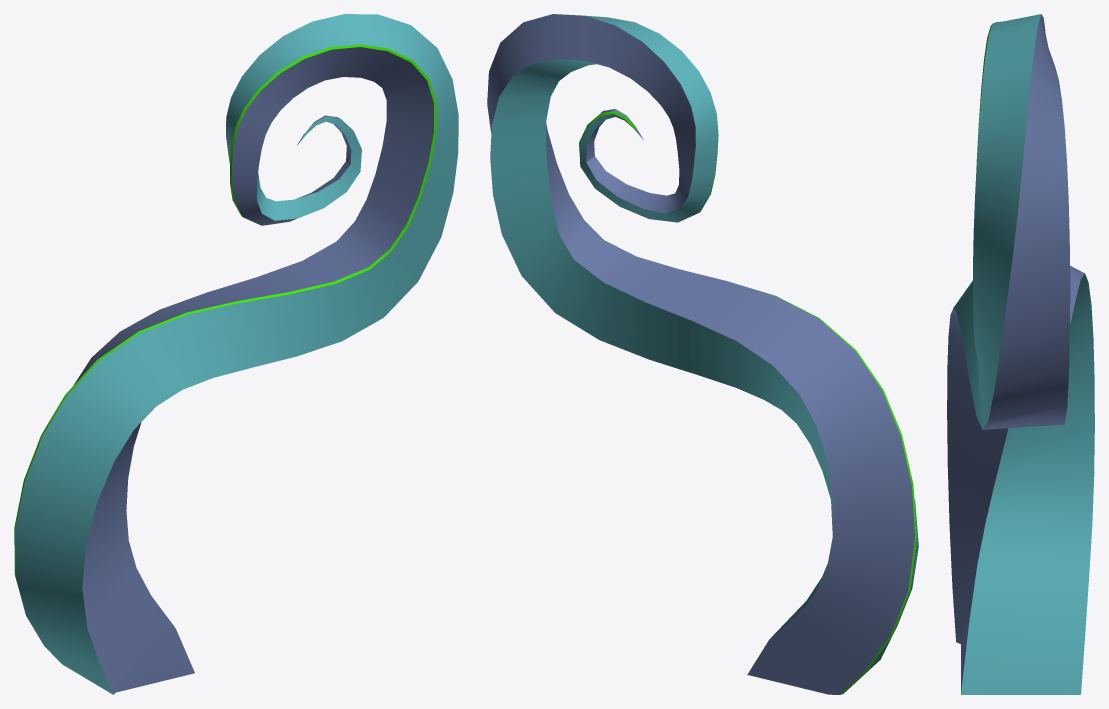
Rendered from PlantSwirl.fbx.
3 views of the same model, side by side, from view 1: azimuth 30°, elevation 25°; view 2: azimuth 150°, elevation 25°; view 3: azimuth 270°, elevation 25° (orthographic). The views are drawn at different scales.
Parts seen in each view (by area): view 1: CoolPantThing; view 2: CoolPantThing; view 3: CoolPantThing.
Boxes of the visible parts, x1,y1,x2,y2 form: CoolPantThing: (14,14,458,694); CoolPantThing: (487,14,918,694); CoolPantThing: (947,14,1094,694).
Bounding box in the file's own units: 7 × 9.17 × 1.6.
